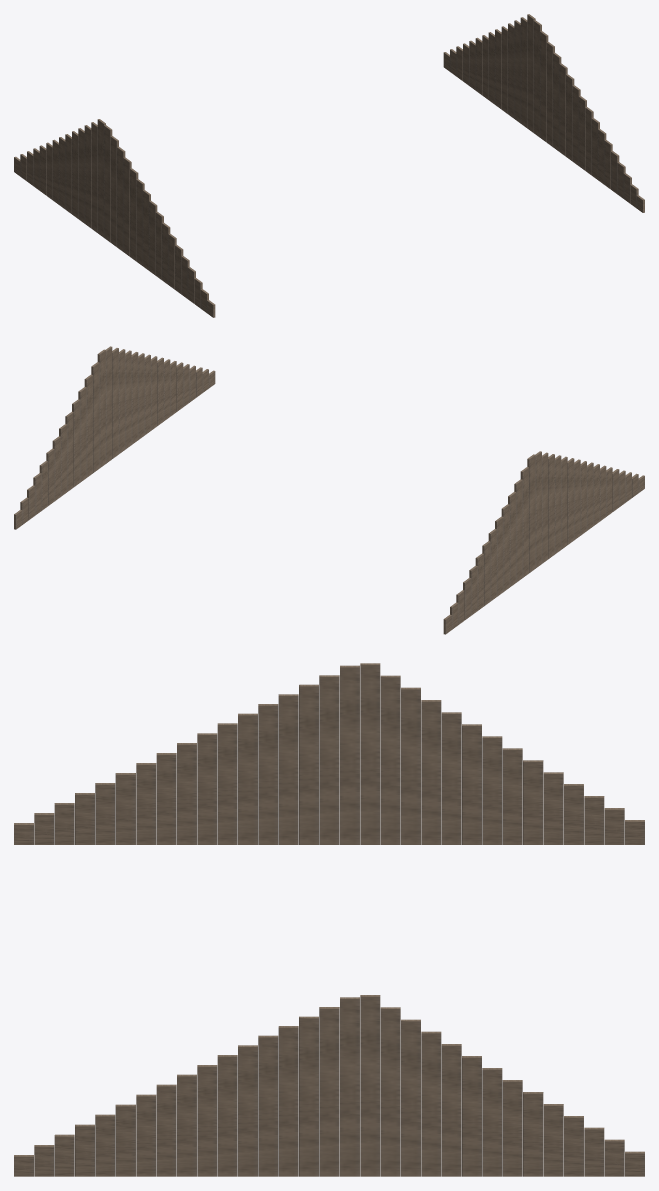
The model's file is BW_Blacksmith01_UpperTimber.fbx.
3 renders of one model, top to bottom at view 1: azimuth 30°, elevation 25°; view 2: azimuth 150°, elevation 25°; view 3: azimuth 270°, elevation 25°, orthographic. The views are drawn at different scales.
Parts seen in each view (by area): view 1: BW_Blacksmith01_UpperTimber; view 2: BW_Blacksmith01_UpperTimber; view 3: BW_Blacksmith01_UpperTimber.
Part boxes in pixels (box(x1,y1,x2,y2)): BW_Blacksmith01_UpperTimber: box(14, 14, 644, 317); BW_Blacksmith01_UpperTimber: box(14, 346, 644, 634); BW_Blacksmith01_UpperTimber: box(14, 663, 644, 1176).
Bounding box in the file's own units: 9.24 × 2.33 × 7.4.
